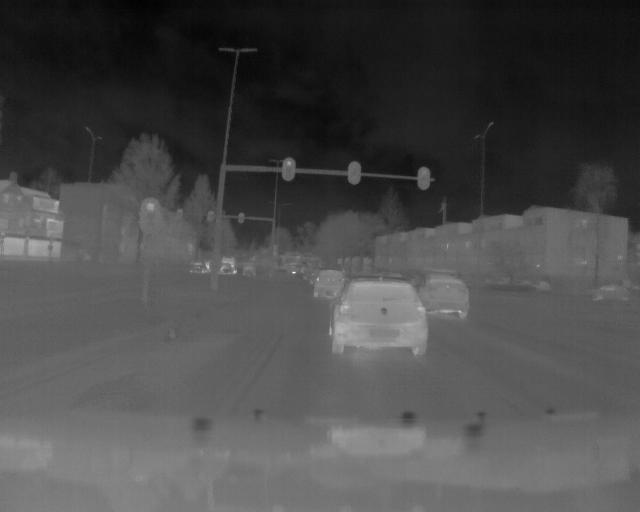car: (326, 269, 439, 358), (424, 269, 470, 317), (587, 283, 636, 303), (220, 257, 246, 276), (321, 267, 337, 293)
